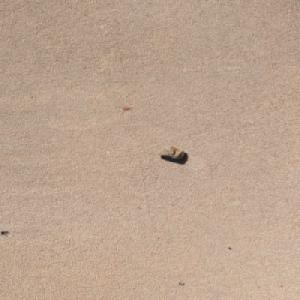Rock: (156, 145, 185, 159)
